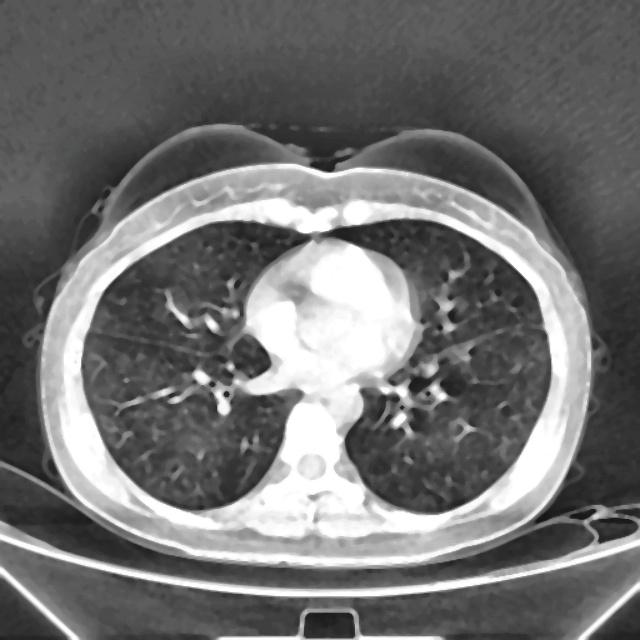covid: (36, 124, 595, 567)
